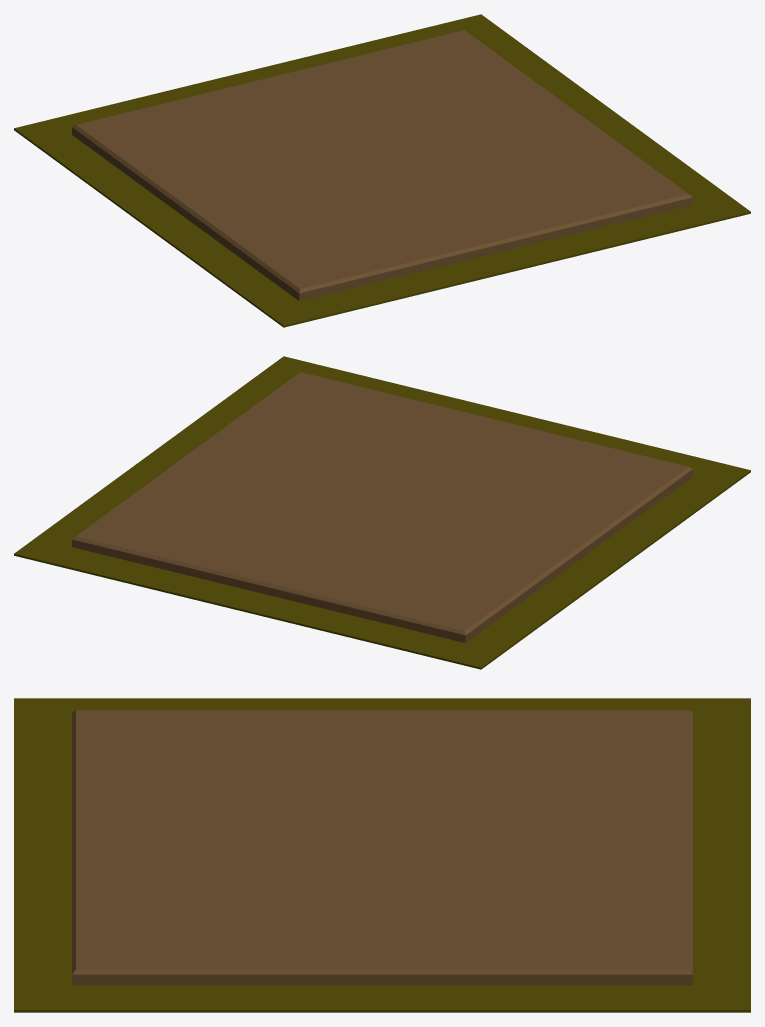
File: ANM_ENV_RUIN_DRUCKPLATTE.fbx
The picture shows the model from 3 angles, top to bottom: view 1: azimuth 30°, elevation 25°; view 2: azimuth 150°, elevation 25°; view 3: azimuth 270°, elevation 25°; orthographic projection. The views are drawn at different scales.
Visible parts, largest first — view 1: Plane.003, Plane.002; view 2: Plane.003, Plane.002; view 3: Plane.003, Plane.002.
Boxes of the visible parts, bbox=[...] form: Plane.003: bbox=[72, 30, 692, 300]; Plane.002: bbox=[14, 14, 750, 327]; Plane.003: bbox=[72, 372, 692, 642]; Plane.002: bbox=[14, 356, 750, 669]; Plane.003: bbox=[72, 710, 692, 985]; Plane.002: bbox=[14, 698, 750, 1012].
Bounding box in the file's own units: 119 × 3.03 × 119.
